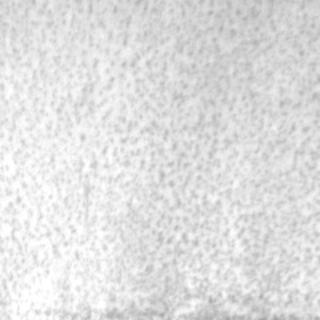pitted_surface: (1, 0, 316, 316)
